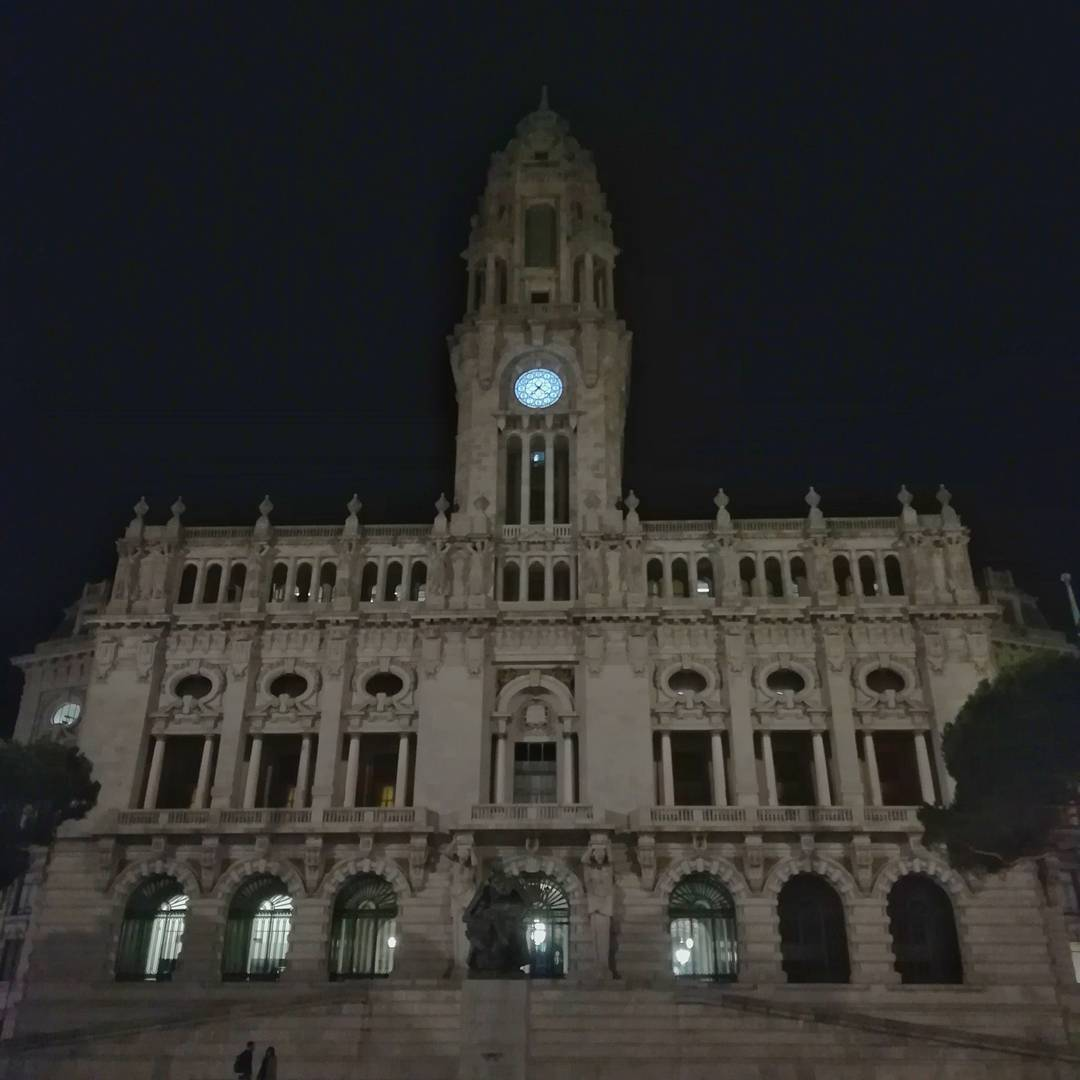camara: (0, 82, 1079, 1050)
